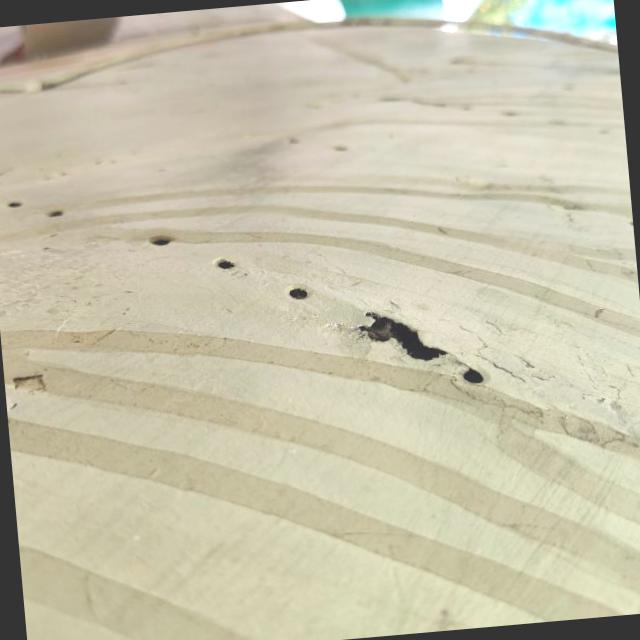crack: (332, 279, 460, 390)
